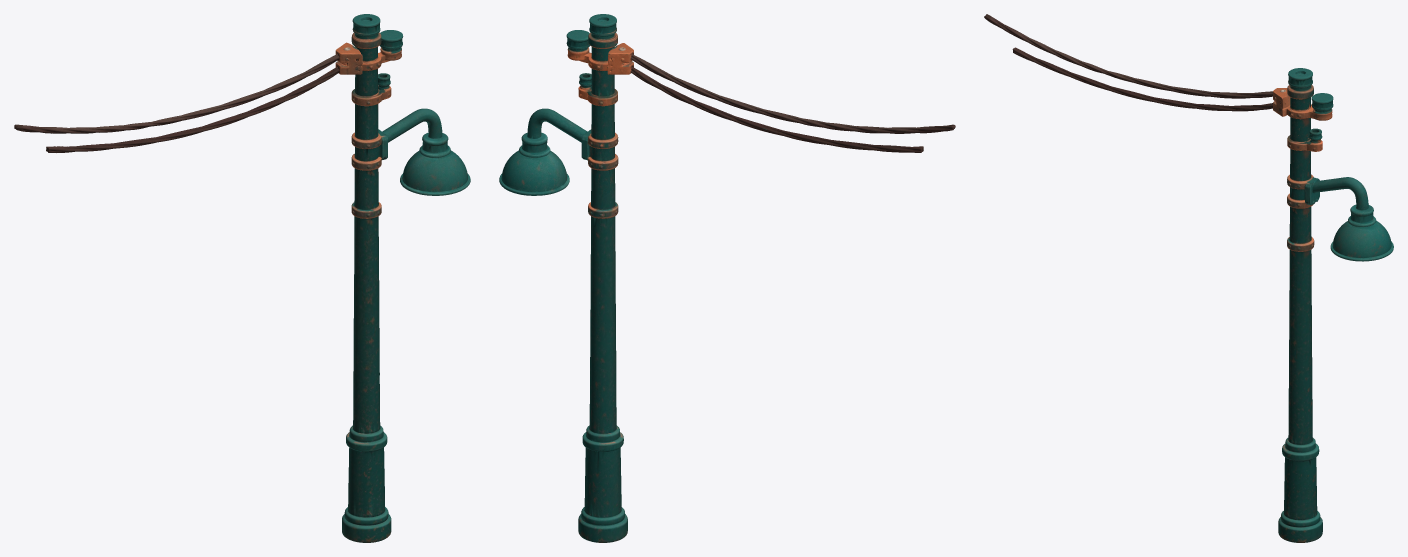
File: lamp.glb
3 renders of one model, left to right at view 1: azimuth 30°, elevation 25°; view 2: azimuth 150°, elevation 25°; view 3: azimuth 330°, elevation 25°, orthographic. The views are drawn at different scales.
Bounding box in the file's own units: 1.74 × 1.9 × 0.2365.
Materials: 1 (1 with a texture image).
